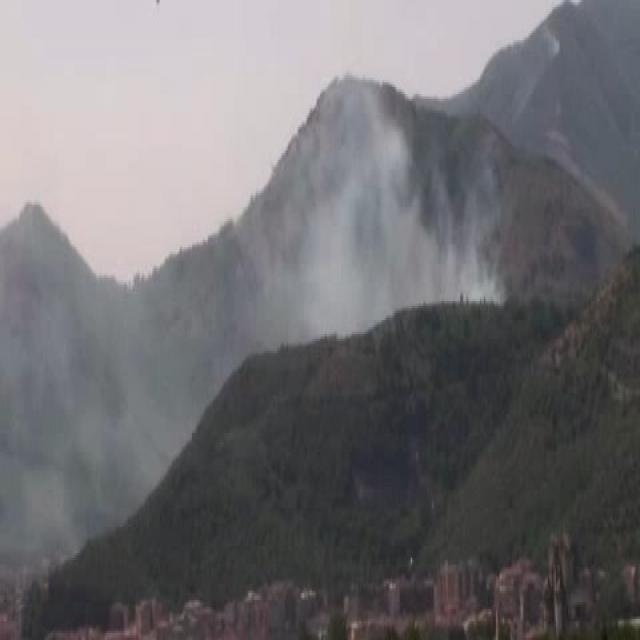smoke: (284, 105, 490, 328), (28, 276, 205, 472)
